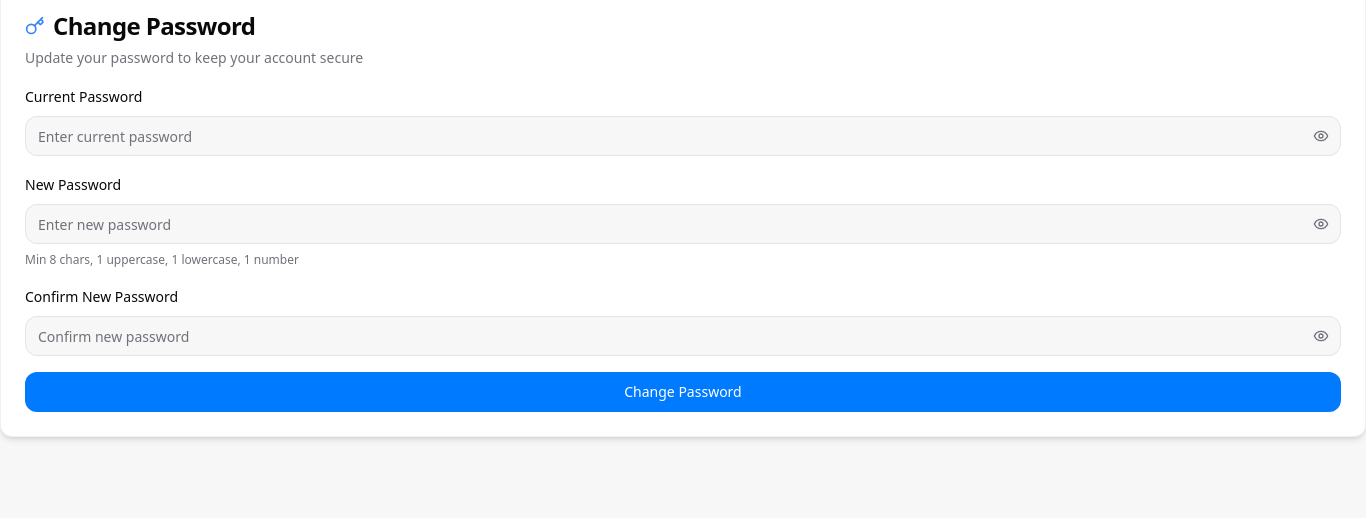
Test case: PasswordSettings › shows error if password is too short
Step 1. Type "Short1!" into the password field labelled "New Password" → (683, 224), box 25,204 -> 1341,244
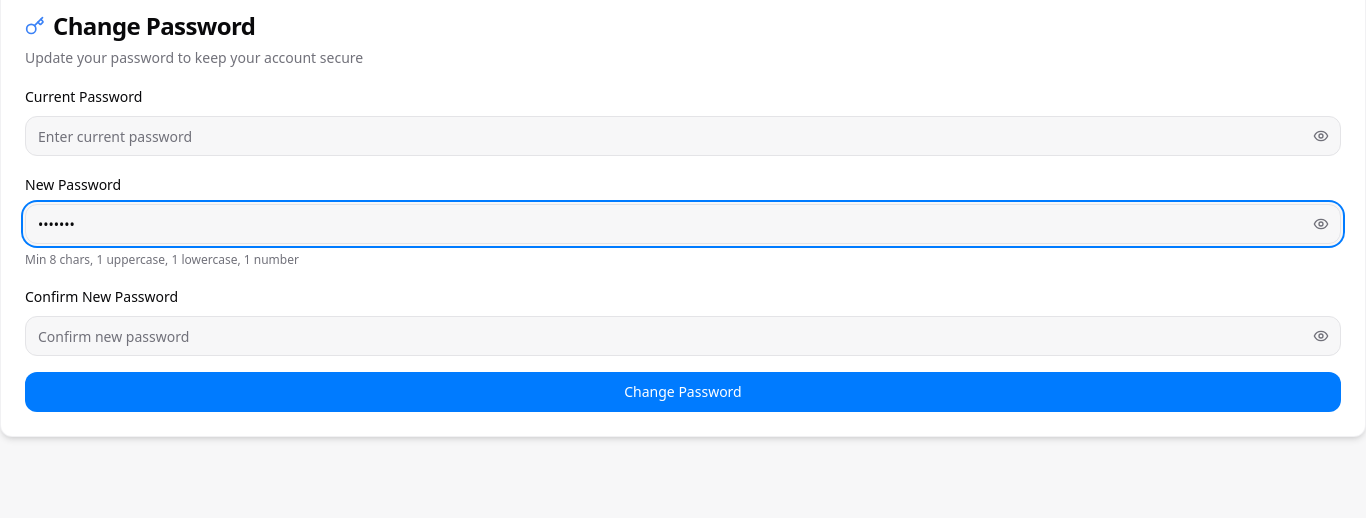
Step 2. Type "Short1!" into the password field labelled "Confirm New Password" → (683, 336), box 25,316 -> 1341,356
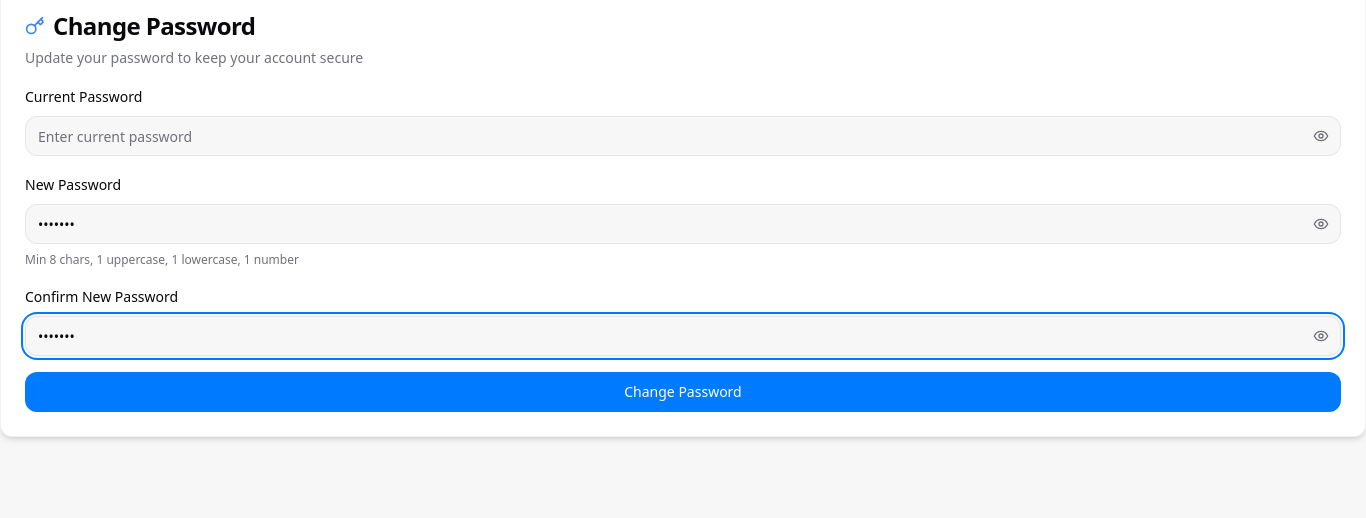
Step 3. Click the button "Change Password" → (683, 392), box 25,372 -> 1341,412
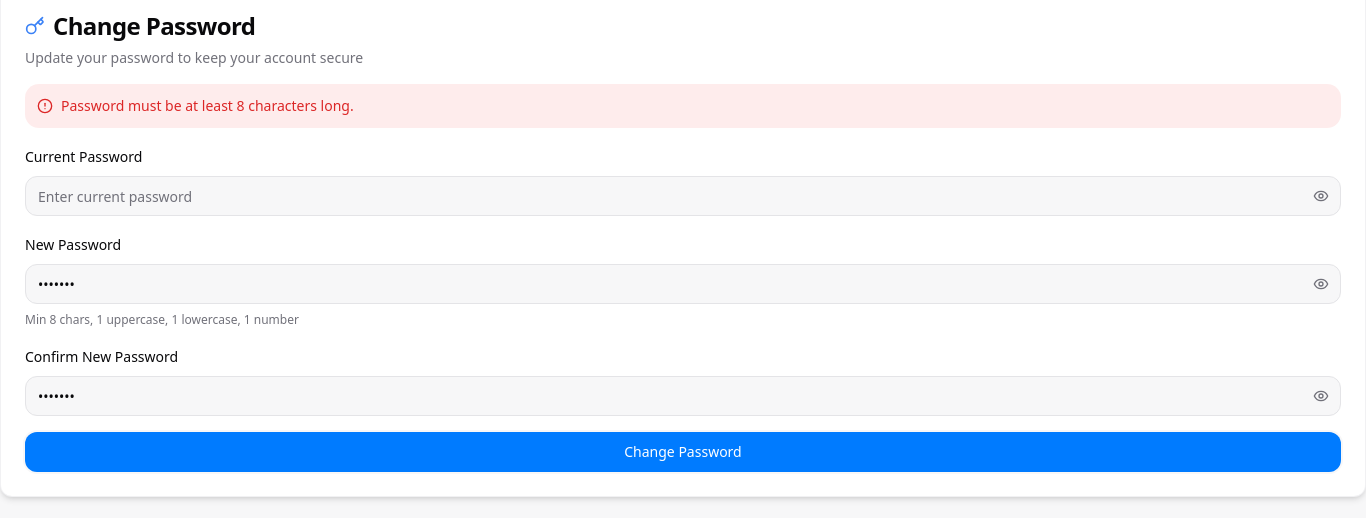
Expected: the text "Password must be at least 8 characters long." is shown, 61,96 -> 354,116
